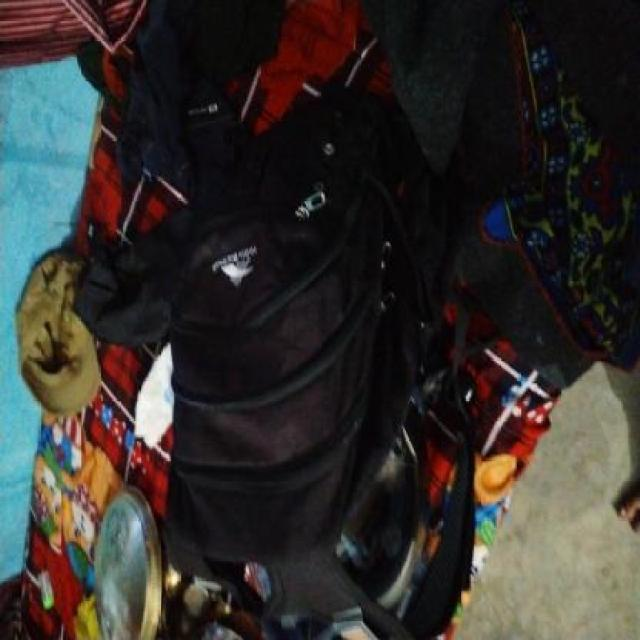backpack: (156, 107, 481, 640)
